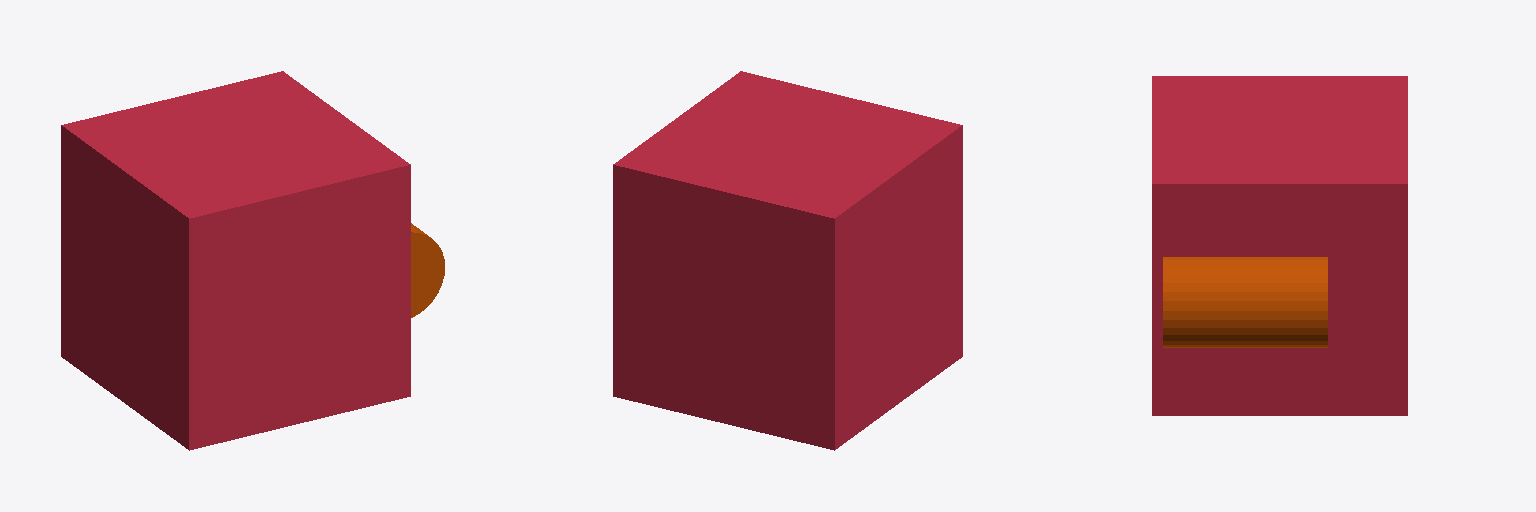
The model's file is Bird.obj.
3 renders of one model, left to right at view 1: azimuth 30°, elevation 25°; view 2: azimuth 150°, elevation 25°; view 3: azimuth 270°, elevation 25°, orthographic.
Parts seen in each view (by area): view 1: Cube, Cylinder; view 2: Cube; view 3: Cube, Cylinder.
Part boxes in pixels (left/top/right/bottom): Cube: left=61, top=71, right=410, bottom=450; Cylinder: left=411, top=223, right=444, bottom=317; Cube: left=613, top=71, right=962, bottom=450; Cube: left=1152, top=76, right=1407, bottom=415; Cylinder: left=1163, top=257, right=1327, bottom=347.
Size of the model in its own units: 2.36 by 2 by 2.